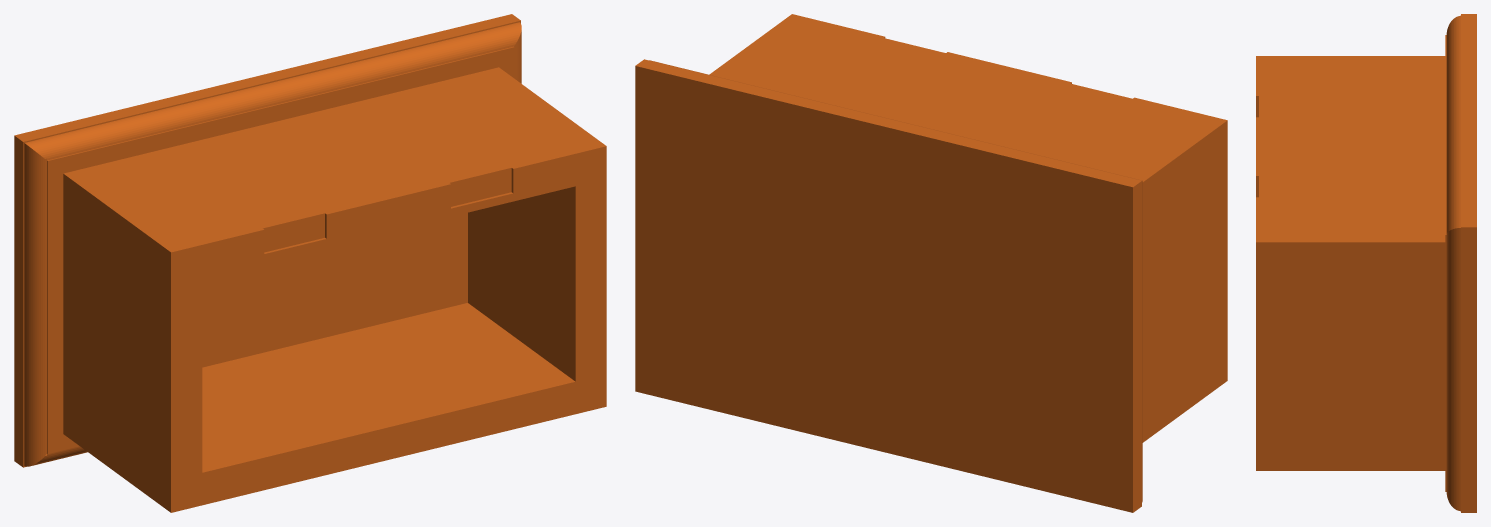
The picture shows the model from 3 angles, left to right: view 1: azimuth 30°, elevation 25°; view 2: azimuth 150°, elevation 25°; view 3: azimuth 270°, elevation 25°; orthographic projection. The views are drawn at different scales.
Visible parts, largest first — view 1: 1_base__material_0_24; view 2: 1_base__material_0_24; view 3: 1_base__material_0_24.
Boxes of the visible parts, x1=… form: 1_base__material_0_24: x1=14, y1=14, x2=606, y2=512; 1_base__material_0_24: x1=635, y1=14, x2=1227, y2=512; 1_base__material_0_24: x1=1256, y1=14, x2=1476, y2=512.
Bounding box in the file's own units: 0.25 × 0.1562 × 0.1094.
